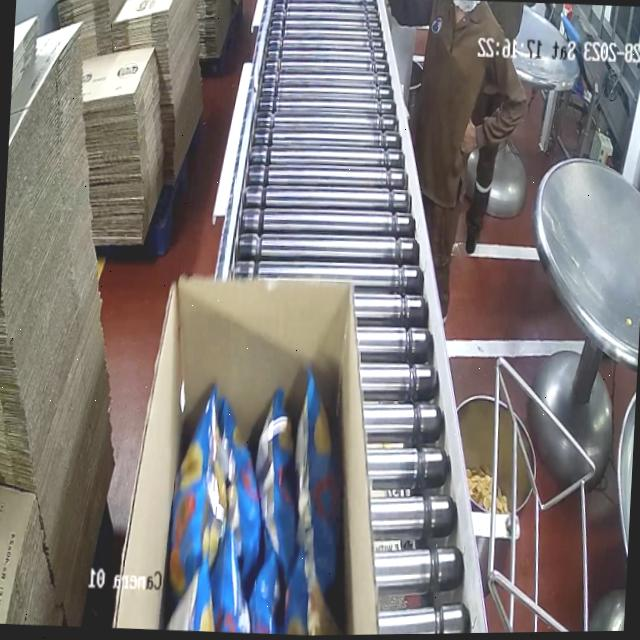PAPRIKA: (159, 365, 350, 638)
